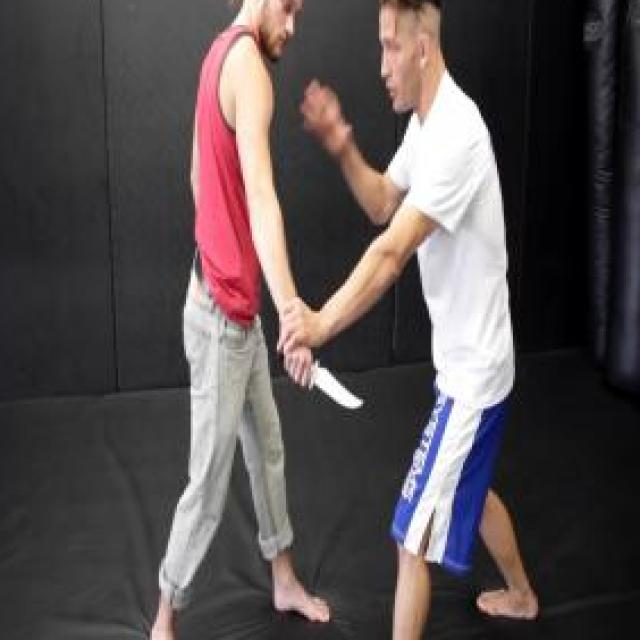knife: (277, 342, 369, 418)
